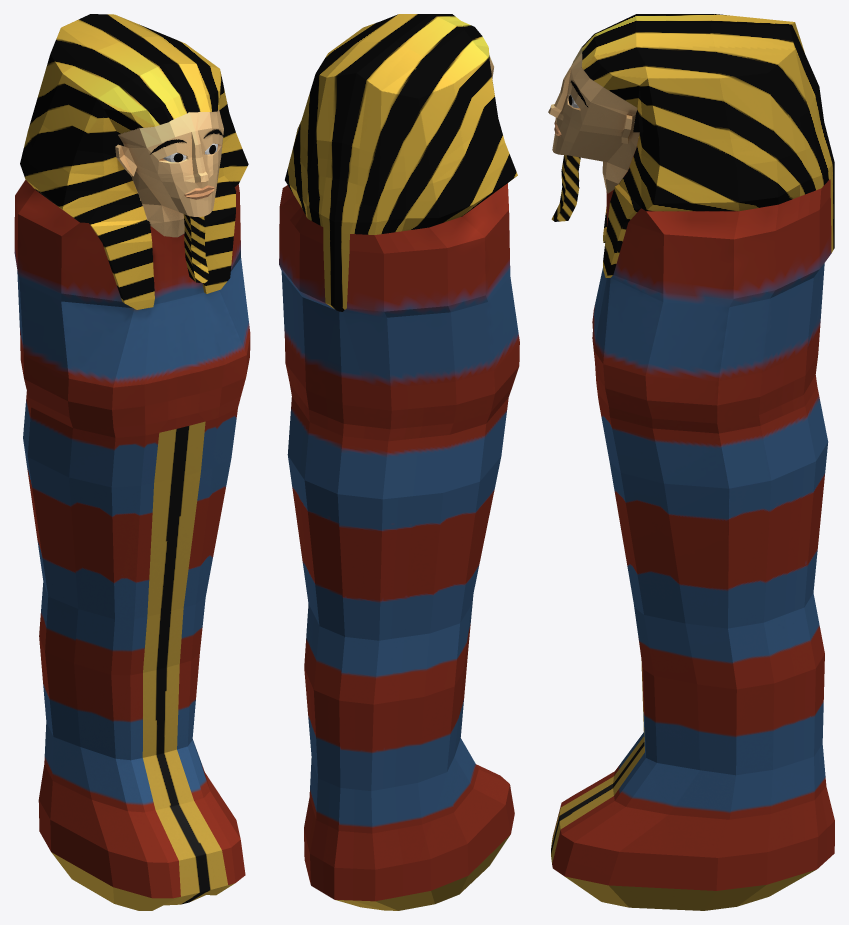
The model's file is king_tut_glb.glb.
The picture shows the model from 3 angles, left to right: view 1: azimuth 30°, elevation 25°; view 2: azimuth 150°, elevation 25°; view 3: azimuth 270°, elevation 25°; orthographic projection. The views are drawn at different scales.
Visible parts, largest first — view 1: KingTut; view 2: KingTut; view 3: KingTut.
Boxes of the visible parts, box(x1,y1,x2,y2) form: KingTut: box(14, 14, 250, 910); KingTut: box(279, 14, 519, 910); KingTut: box(548, 14, 834, 910).
Size of the model in its own units: 2.39 by 9.3 by 2.82.
Materials: 3 (1 with a texture image).
